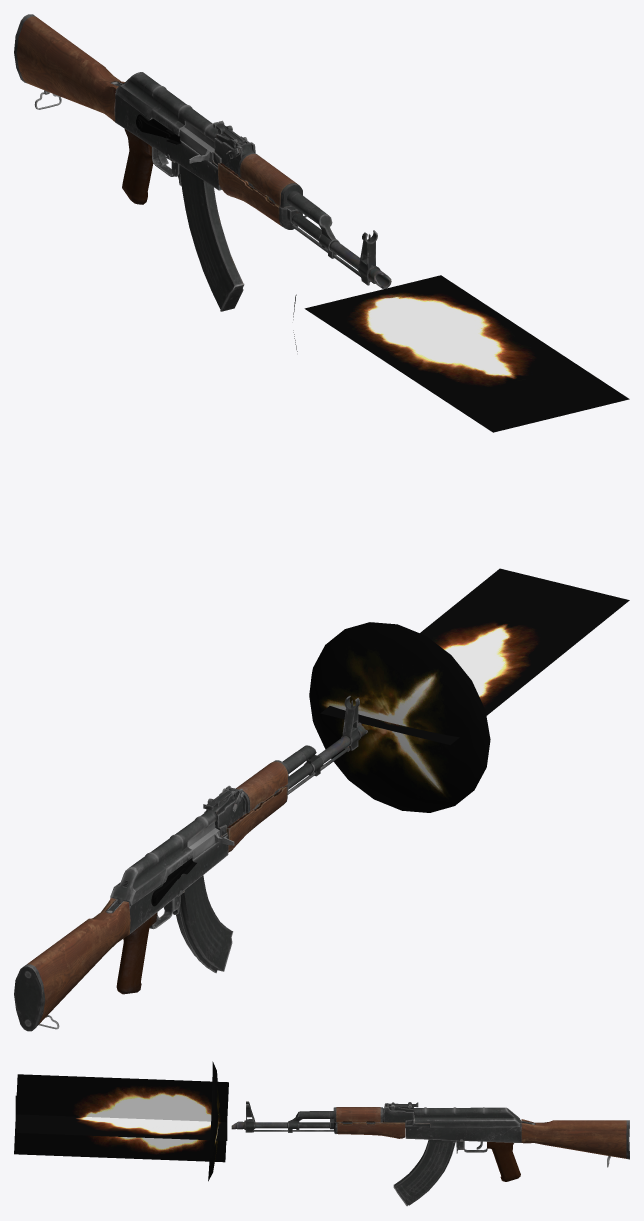
3 views of the same model, one above another, from view 1: azimuth 30°, elevation 25°; view 2: azimuth 150°, elevation 25°; view 3: azimuth 270°, elevation 25° (orthographic). The views are drawn at different scales.
Parts seen in each view (by area): view 1: AK47_upd (×2), MuzzleFlash, AK47_upd_mag (×2); view 2: MuzzleFlash, AK47_upd (×2), AK47_upd_mag; view 3: MuzzleFlash, AK47_upd (×2), AK47_upd_mag.
Part boxes in pixels (x1,y1,x2,y2): AK47_upd (×2): (14,14,391,288); MuzzleFlash: (293,275,629,432); AK47_upd_mag (×2): (179,165,244,311); MuzzleFlash: (309,568,629,812); AK47_upd (×2): (14,696,367,1031); AK47_upd_mag: (176,875,233,973); MuzzleFlash: (14,1061,228,1181); AK47_upd (×2): (231,1101,629,1181); AK47_upd_mag: (393,1139,456,1206).
Size of the model in its own units: 0.2492 by 0.3023 by 1.25.
2 materials, 2 textured.
